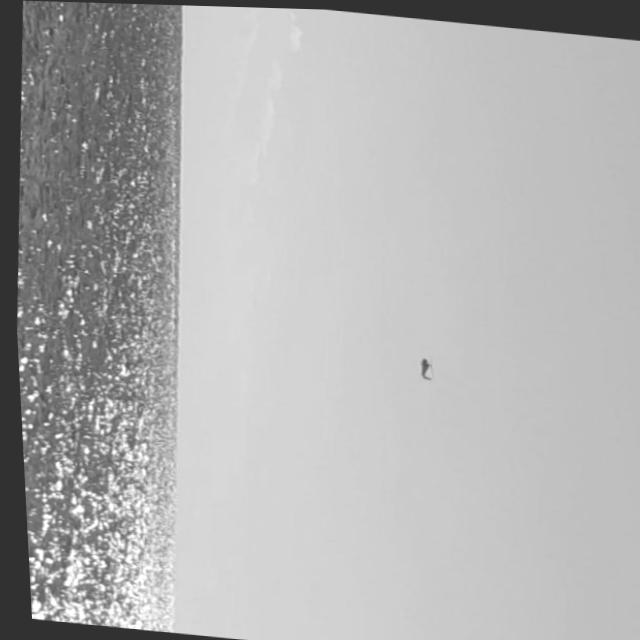helikopter: (391, 341, 450, 403)
